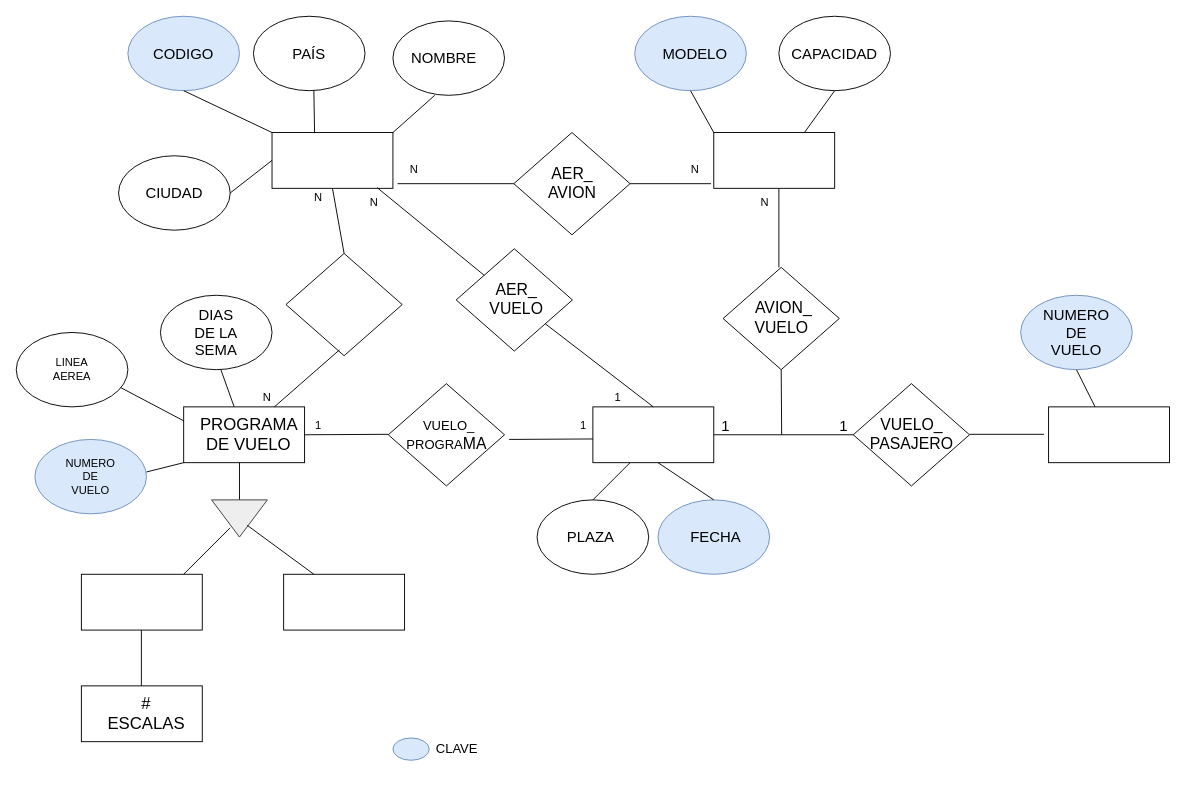
This 1186x787 diagram has some shape labels left out. Each missing label, with the centre of its shape:
"AER_ LINEA" belongs at point (343, 304).
"AEROPUERTO" belongs at point (332, 160).
"AVIONES" belongs at point (774, 160).
"ESCALA" belongs at point (141, 601).
"PASAJERO" belongs at point (1108, 434).
"SIN ESCALA" belongs at point (344, 601).
"VUELO" belongs at point (653, 434).
